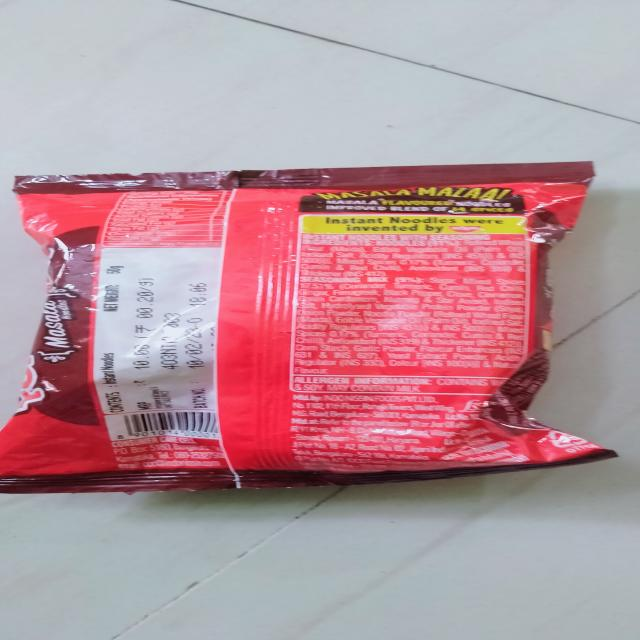maggi: (3, 161, 640, 484)
